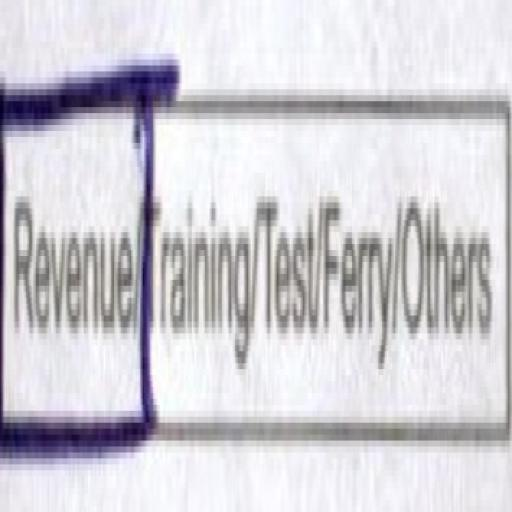check: (1, 0, 152, 512)
